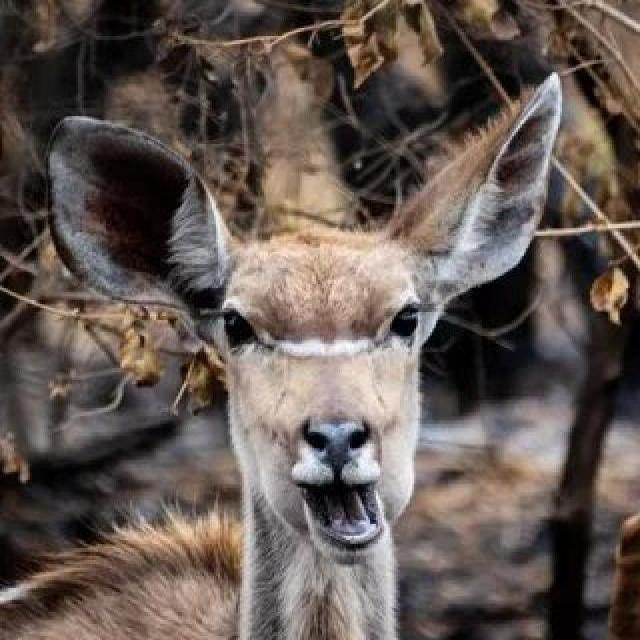deer: (43, 72, 573, 640)
